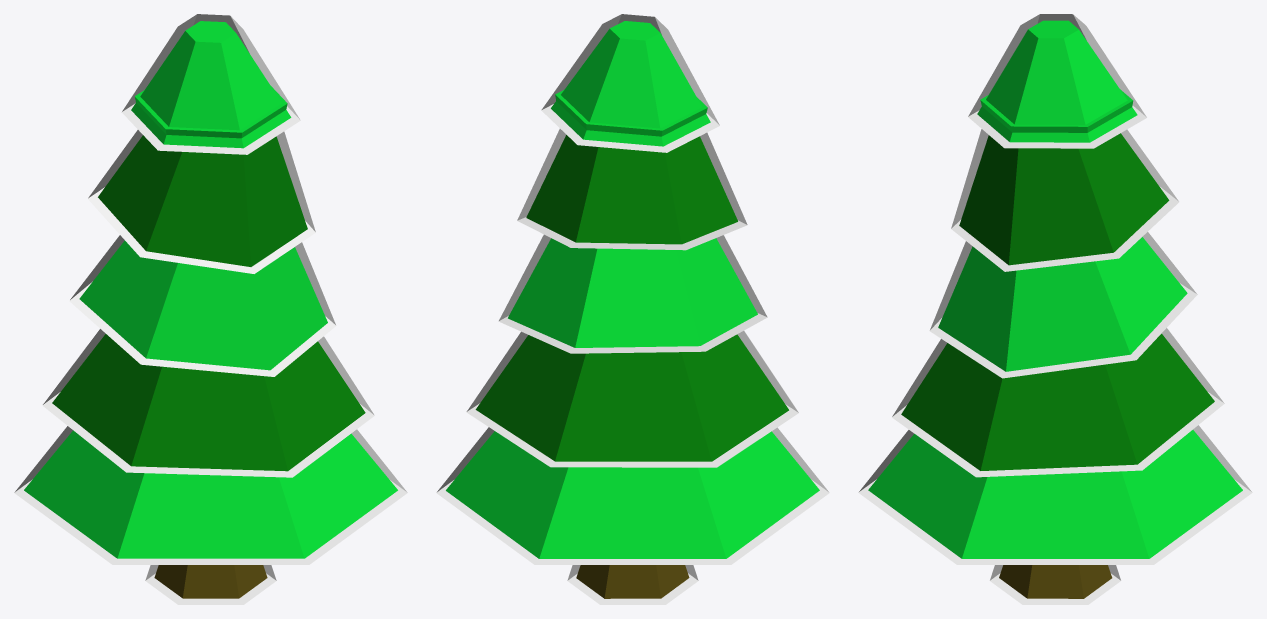
The model's file is tree_cone.glb.
3 renders of one model, left to right at view 1: azimuth 30°, elevation 25°; view 2: azimuth 150°, elevation 25°; view 3: azimuth 270°, elevation 25°, orthographic.
Visible parts, largest first — view 1: Cylinder.005; view 2: Cylinder.005; view 3: Cylinder.005.
Boxes of the visible parts, bbox=[...] form: Cylinder.005: bbox=[14, 14, 407, 604]; Cylinder.005: bbox=[436, 14, 829, 604]; Cylinder.005: bbox=[858, 14, 1252, 604].
Bounding box in the file's own units: 5.19 × 9.33 × 6.
